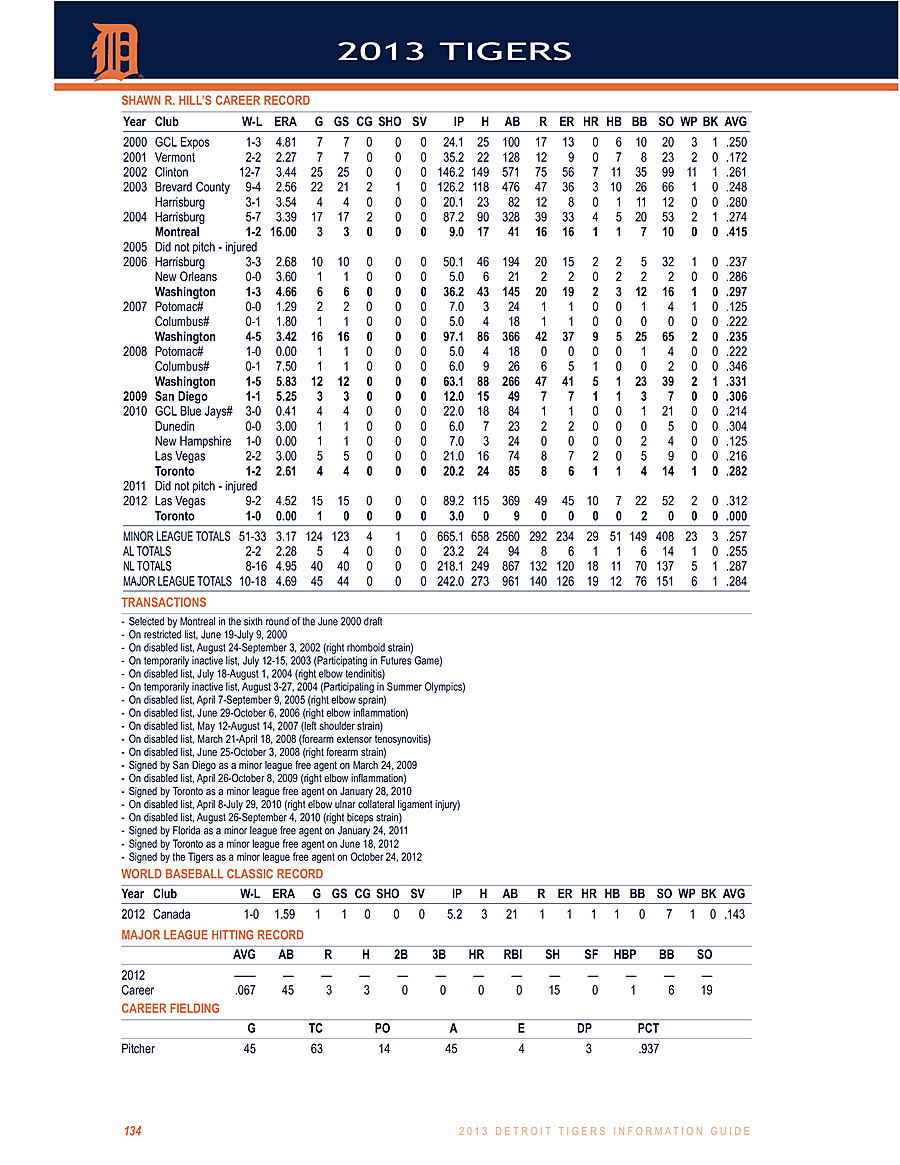list: (115, 608, 470, 865)
section: (340, 26, 595, 76), (100, 863, 357, 884), (117, 87, 327, 110), (111, 925, 319, 944), (121, 1006, 227, 1018), (110, 599, 217, 610)
table: (111, 102, 757, 595), (117, 942, 770, 1005), (111, 1016, 767, 1071), (110, 882, 770, 921)
